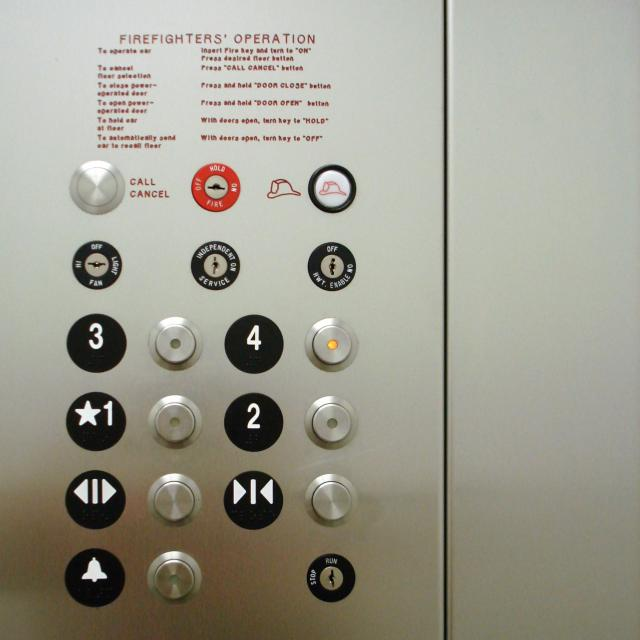2: (223, 391, 285, 453)
3: (66, 312, 128, 375)
4: (224, 313, 284, 375)
alarm: (62, 545, 127, 609)
close: (221, 467, 285, 531)
empty: (143, 548, 204, 608), (145, 392, 204, 452), (145, 470, 203, 530), (302, 394, 360, 453), (304, 316, 360, 373), (302, 472, 358, 528), (68, 159, 124, 214), (148, 316, 203, 371)
hat: (308, 162, 357, 214)
keyhole: (69, 238, 124, 292), (304, 550, 358, 605), (189, 161, 242, 215), (190, 238, 241, 291), (307, 241, 358, 292)
open: (63, 467, 128, 531)
s1: (65, 391, 127, 451)
